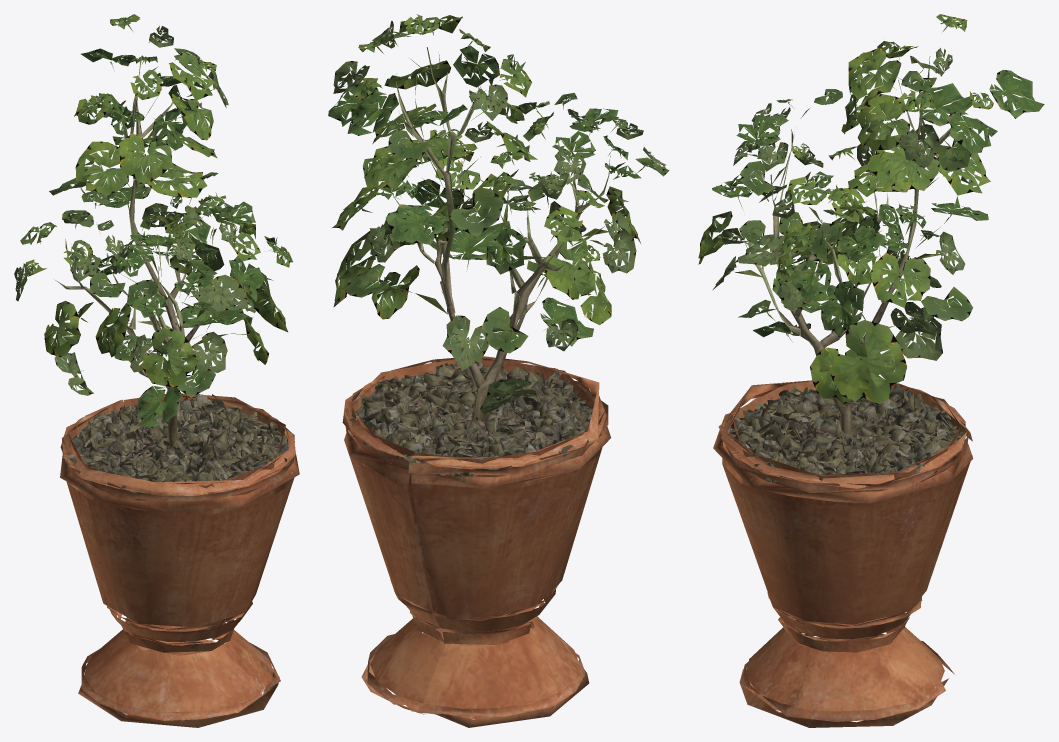
Rendered from distance.fbx.
3 renders of one model, left to right at view 1: azimuth 30°, elevation 25°; view 2: azimuth 150°, elevation 25°; view 3: azimuth 270°, elevation 25°, orthographic. The views are drawn at different scales.
Visible parts, largest first — view 1: potted_plant_01_pot, potted_plant_01_leaves, potted_plant_01_pebbles, potted_plant_01_stem; view 2: potted_plant_01_pot, potted_plant_01_leaves, potted_plant_01_pebbles, potted_plant_01_stem; view 3: potted_plant_01_pot, potted_plant_01_leaves, potted_plant_01_pebbles, potted_plant_01_stem.
Part boxes in pixels (x1,y1,x2,y2): potted_plant_01_pot: (60, 393, 299, 727); potted_plant_01_leaves: (14, 14, 292, 427); potted_plant_01_pebbles: (63, 393, 293, 500); potted_plant_01_stem: (54, 56, 213, 446); potted_plant_01_pot: (342, 356, 610, 727); potted_plant_01_leaves: (328, 14, 669, 414); potted_plant_01_pebbles: (349, 359, 601, 476); potted_plant_01_stem: (396, 47, 610, 420); potted_plant_01_pot: (713, 380, 973, 727); potted_plant_01_leaves: (698, 14, 1044, 404); potted_plant_01_pebbles: (729, 384, 964, 492); potted_plant_01_stem: (748, 56, 956, 435).
Size of the model in its own units: 58.19 by 134 by 63.05.
